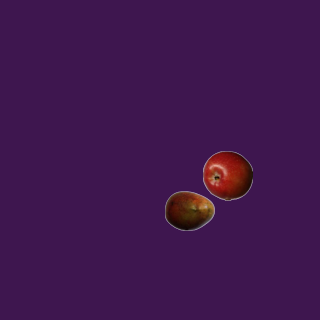Apple Braeburn: (202, 150, 252, 200)
Mango Red: (164, 185, 214, 235)
